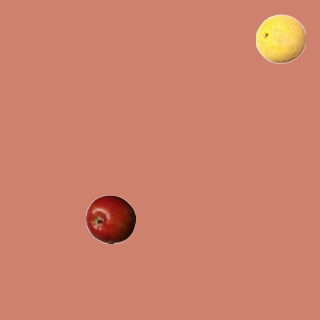Apple Braeburn: (85, 194, 135, 244)
Cantaloupe 1: (255, 13, 305, 63)
